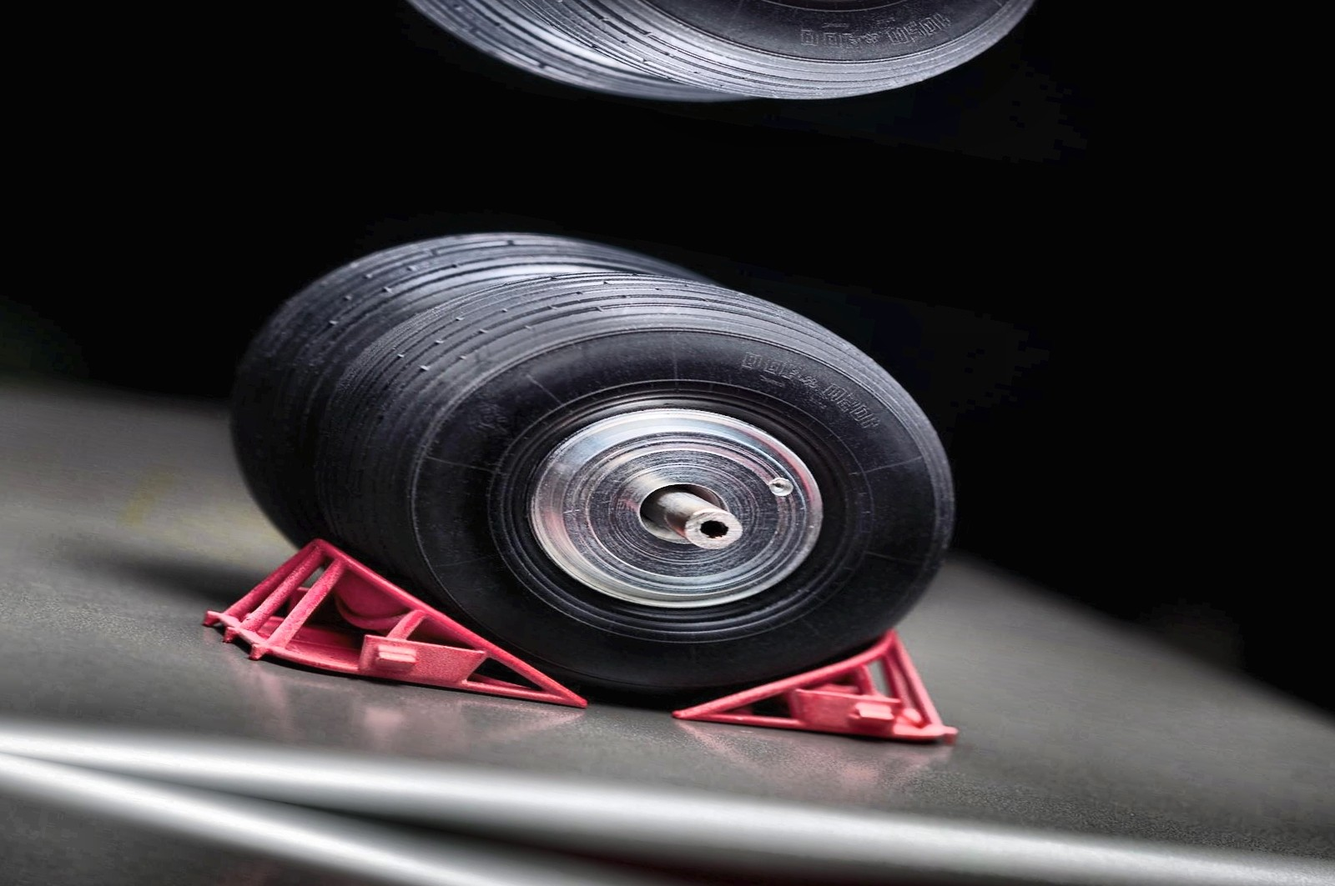chock: (200, 522, 609, 720), (663, 592, 975, 770)
wheel: (273, 218, 990, 764), (199, 185, 790, 689)
